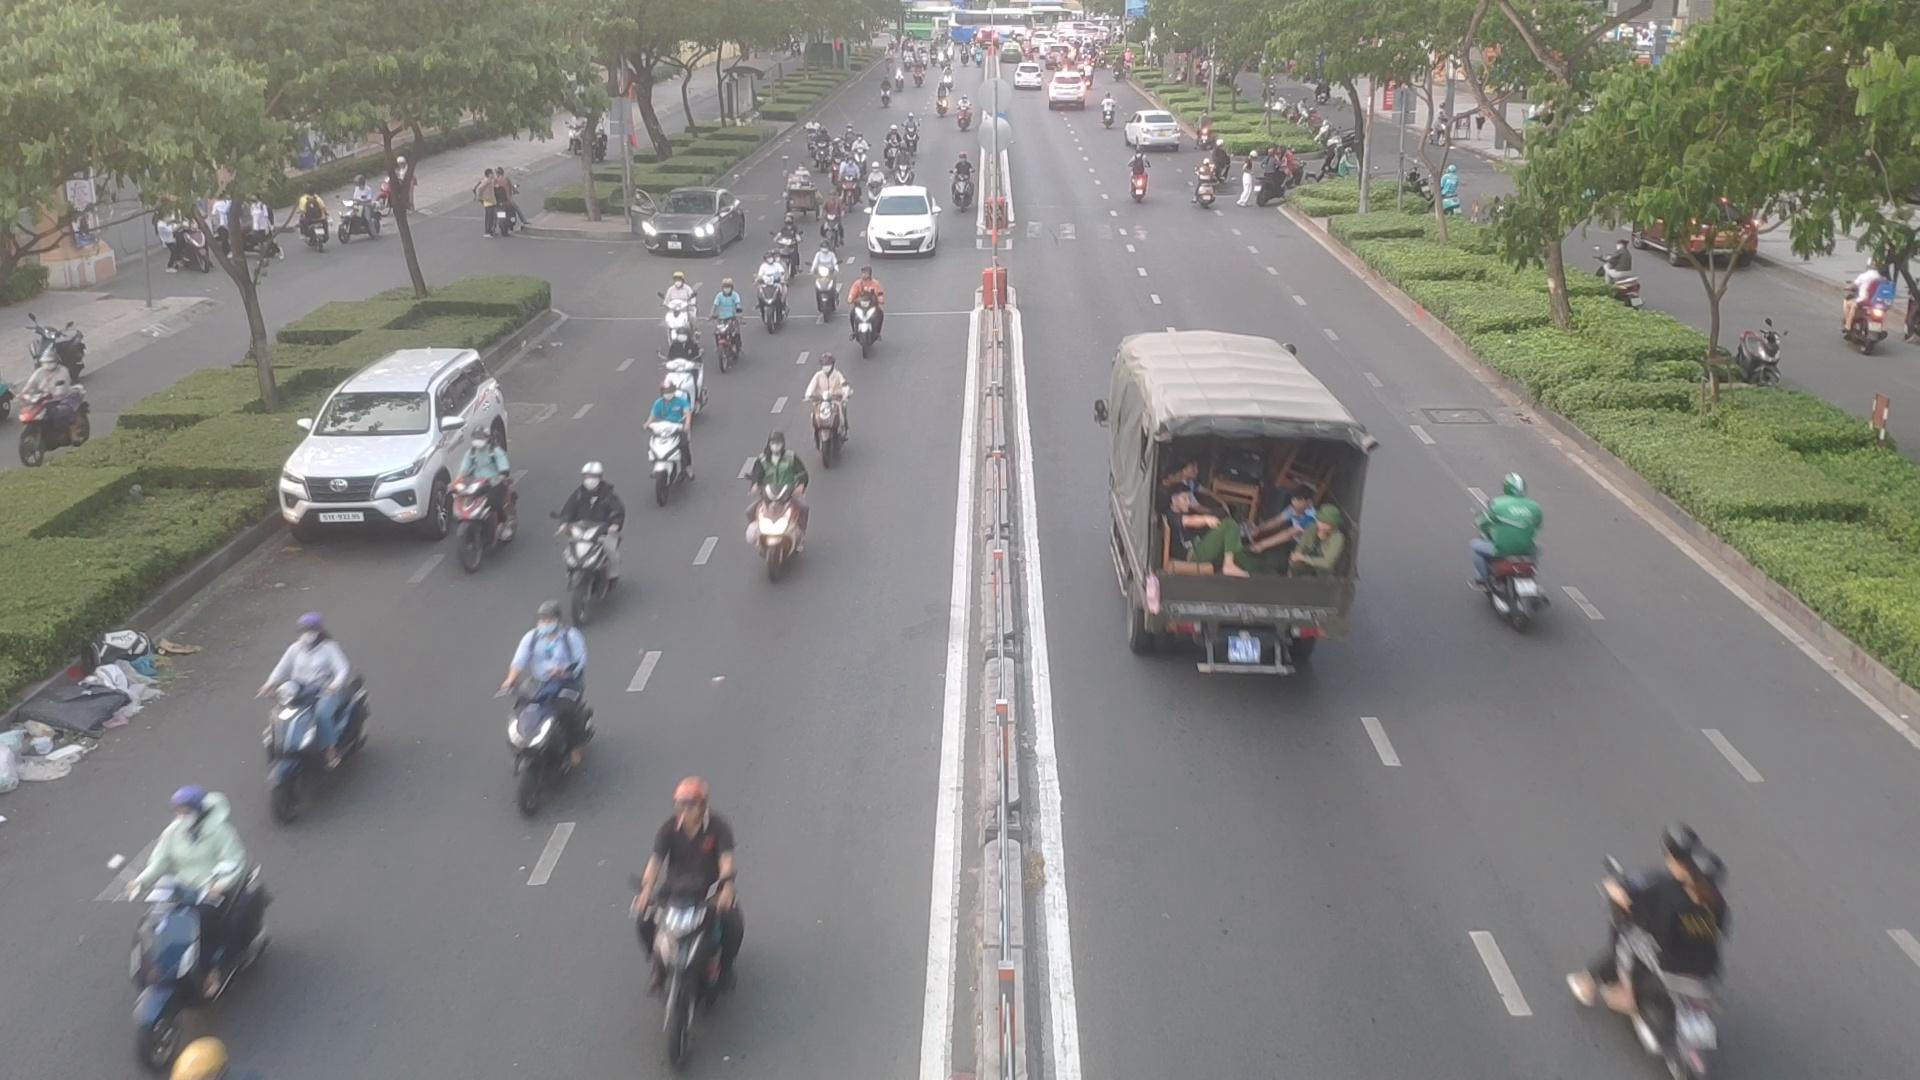car: (1085, 326, 1379, 688), (273, 345, 516, 541), (633, 190, 752, 261), (874, 183, 931, 257)
motorbike: (1538, 823, 1724, 1080), (131, 783, 276, 1069), (613, 773, 738, 1080), (251, 611, 365, 820), (501, 597, 589, 829), (1468, 463, 1571, 630), (745, 418, 804, 611), (436, 423, 498, 593), (571, 433, 621, 618), (804, 357, 856, 455), (663, 327, 711, 414), (649, 384, 682, 502), (749, 256, 785, 340), (657, 277, 694, 355), (851, 262, 884, 348), (711, 281, 736, 367), (773, 211, 806, 262), (811, 244, 835, 311), (948, 156, 973, 211), (822, 196, 843, 251), (841, 158, 861, 214), (895, 145, 911, 198), (1127, 150, 1146, 195), (866, 162, 882, 214), (852, 135, 869, 177), (902, 112, 919, 153), (885, 123, 899, 169), (1197, 161, 1209, 207), (814, 127, 825, 167), (802, 121, 818, 152), (829, 138, 839, 175)
